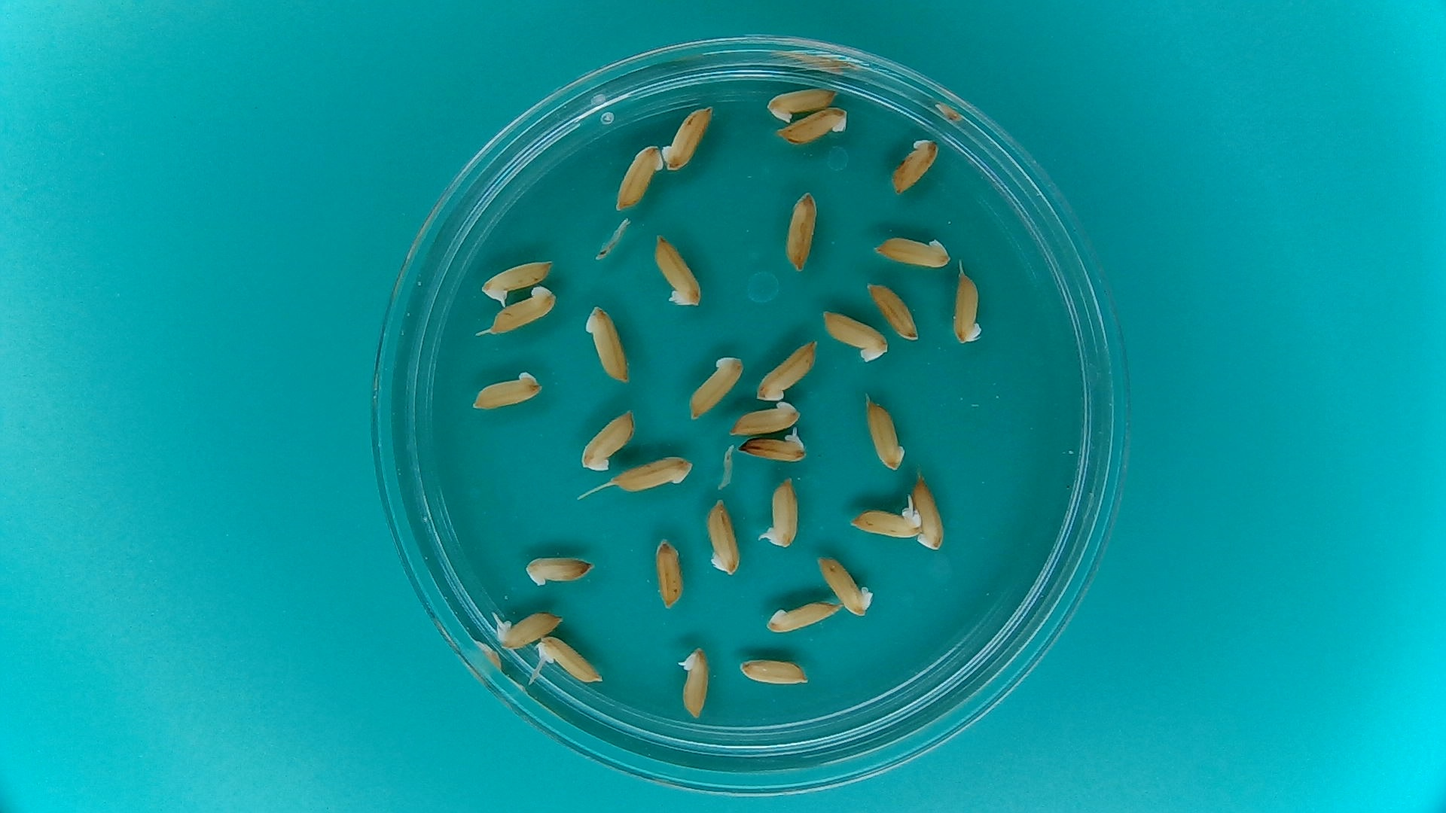no: (581, 302, 635, 387), (651, 229, 706, 309), (686, 352, 747, 422), (574, 405, 635, 473), (755, 337, 820, 400), (488, 285, 560, 340), (661, 102, 717, 172), (862, 390, 908, 473), (611, 142, 664, 214), (819, 307, 889, 361), (815, 553, 874, 617), (864, 279, 922, 342), (468, 367, 545, 413), (781, 186, 821, 273), (612, 456, 694, 497), (911, 468, 950, 554), (887, 135, 941, 196), (870, 231, 953, 269), (705, 495, 742, 578), (519, 552, 601, 589), (774, 106, 848, 146), (950, 265, 985, 349), (765, 83, 839, 120), (727, 399, 803, 435), (734, 655, 812, 690), (765, 600, 839, 634), (653, 534, 685, 611)
yes: (483, 255, 557, 300), (674, 643, 713, 723), (536, 636, 599, 685), (493, 607, 565, 648), (735, 427, 811, 464), (851, 502, 923, 540), (763, 481, 800, 547)
